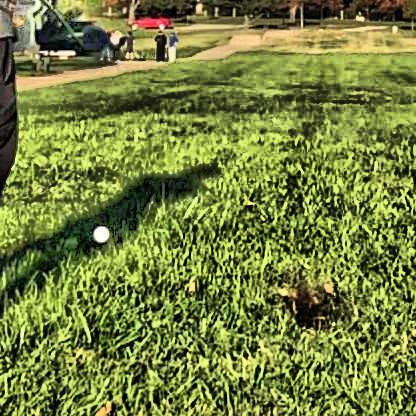golfball: (90, 221, 107, 240)
